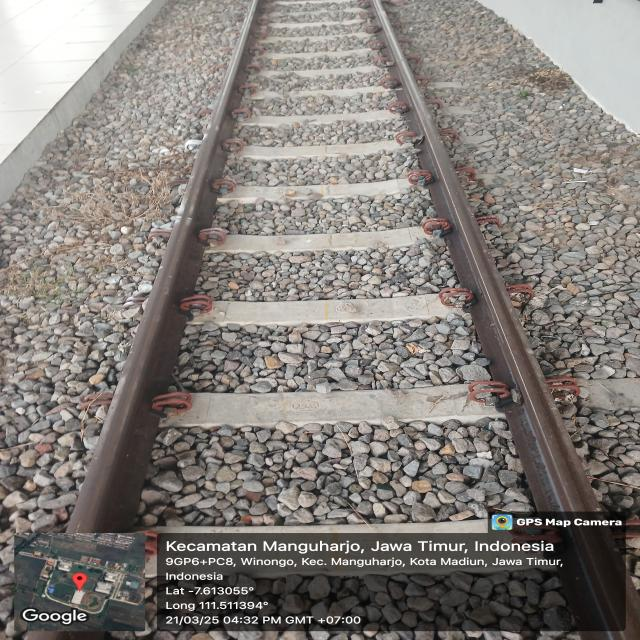rail-detection: (374, 0, 625, 640), (69, 0, 264, 532)
